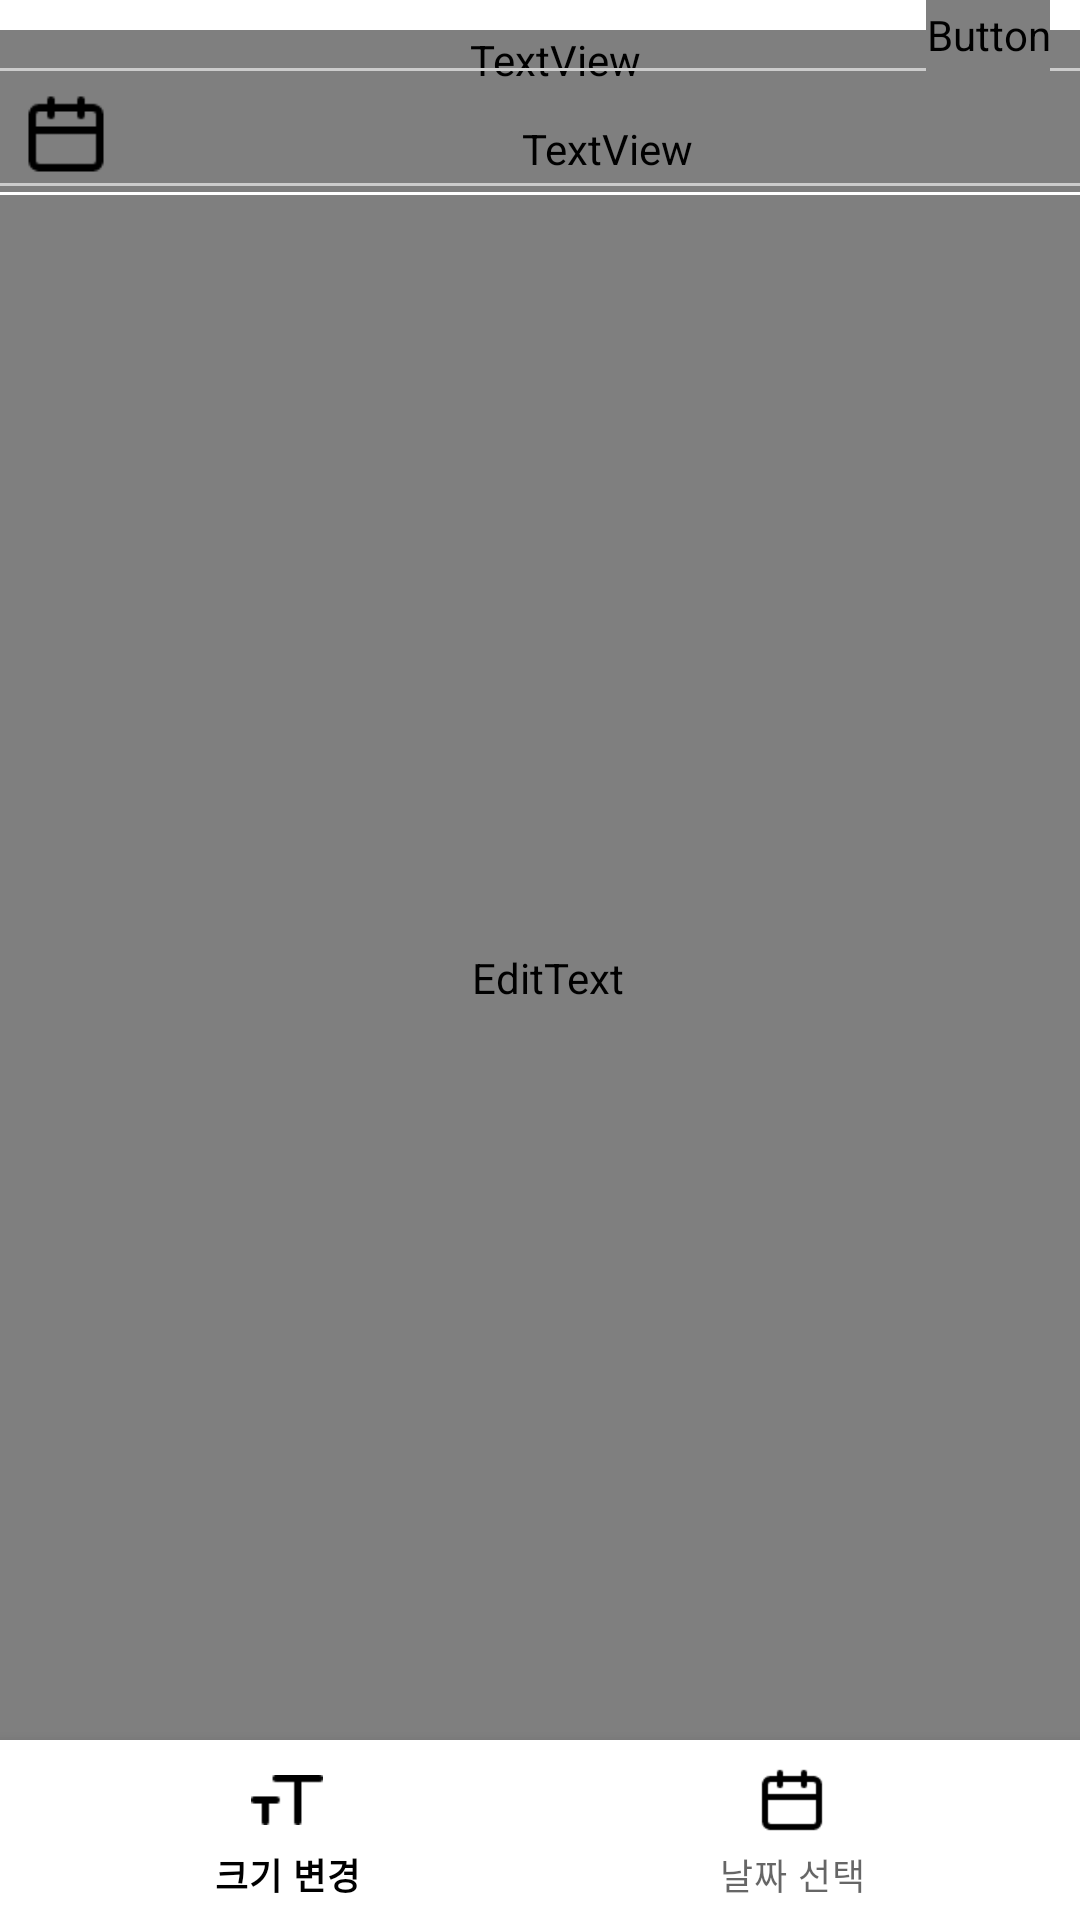

Named icons in this screenshot (1080px×1920px) and their centers, [x,y]:
calendar: [66,134]
